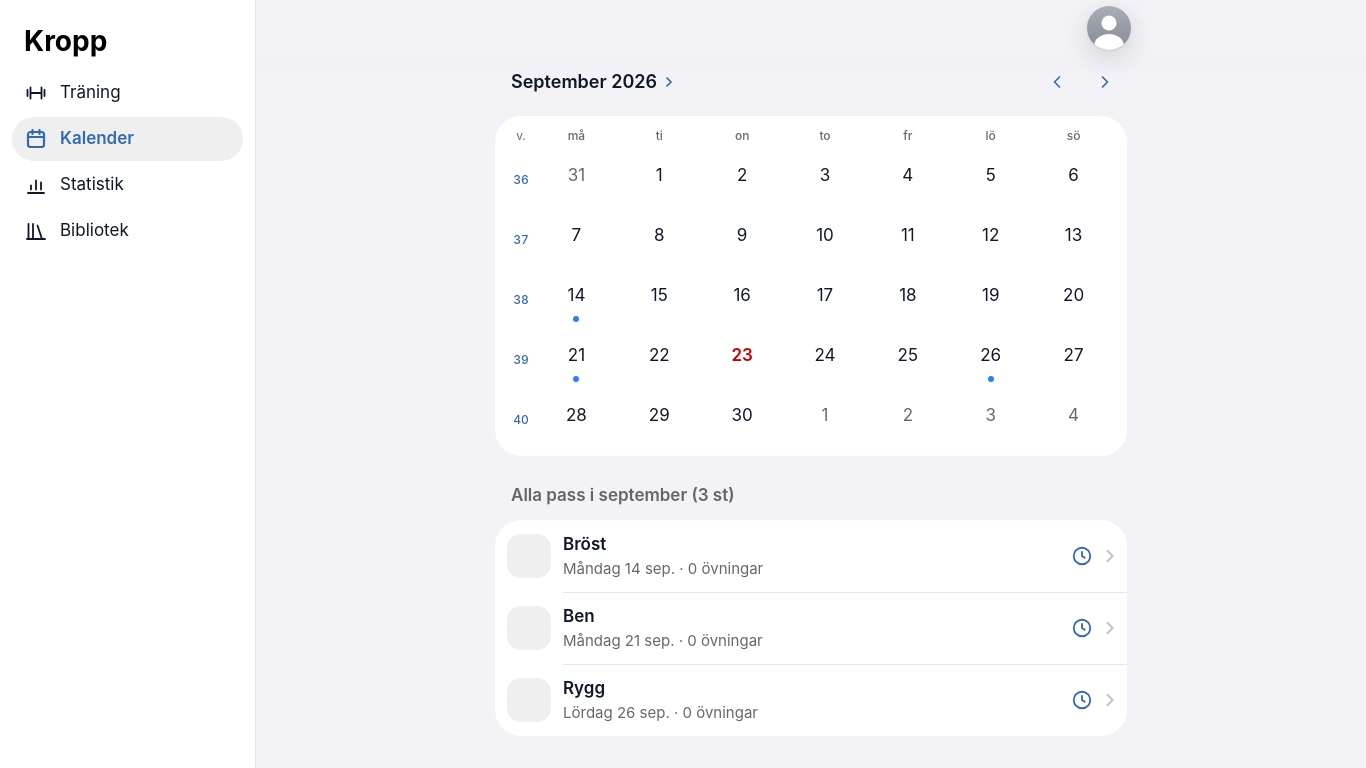
Test: chooses a whole week with a tap on its number, and the way back leads to that week
The image size is (1366, 768).
Click the button with test id "week-number" at (521, 360), box [507,346,535,374]
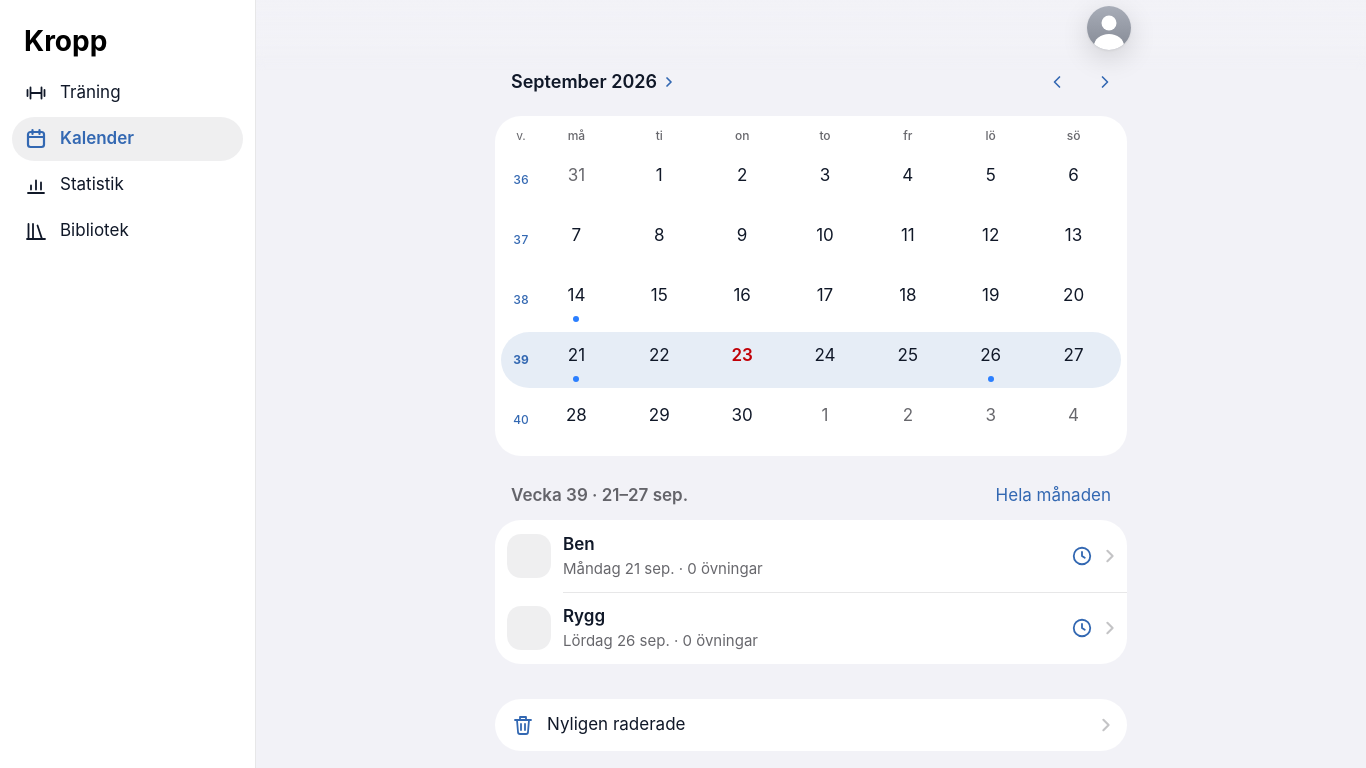
Expected: the heading with test id "shown-heading" reads "Vecka 39 · 21–27 sep.", [511,485,688,505]
A second tap, the month again.
Click the button with test id "week-number" at (521, 360), box [507,346,535,374]
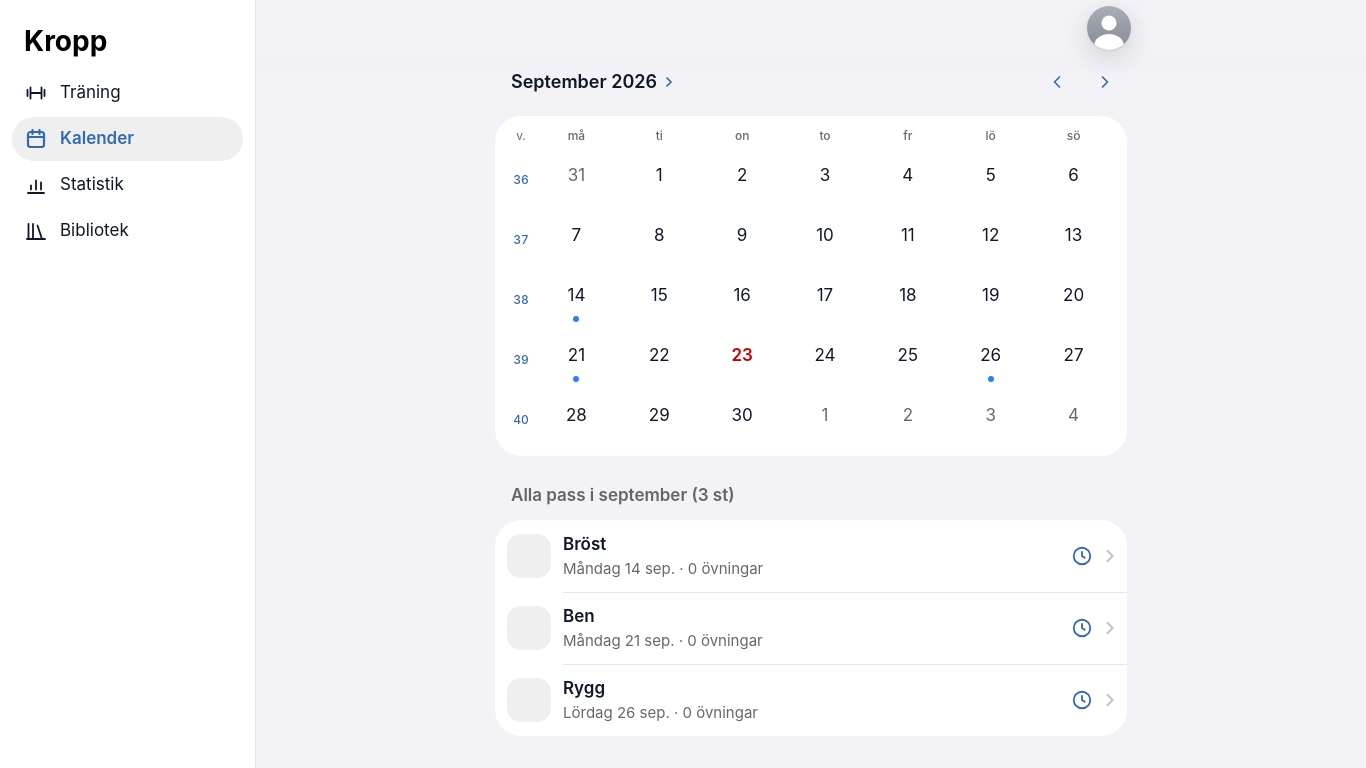
Expected: the heading with test id "shown-heading" reads "Alla pass i september (3 st)", [511,485,735,505]
